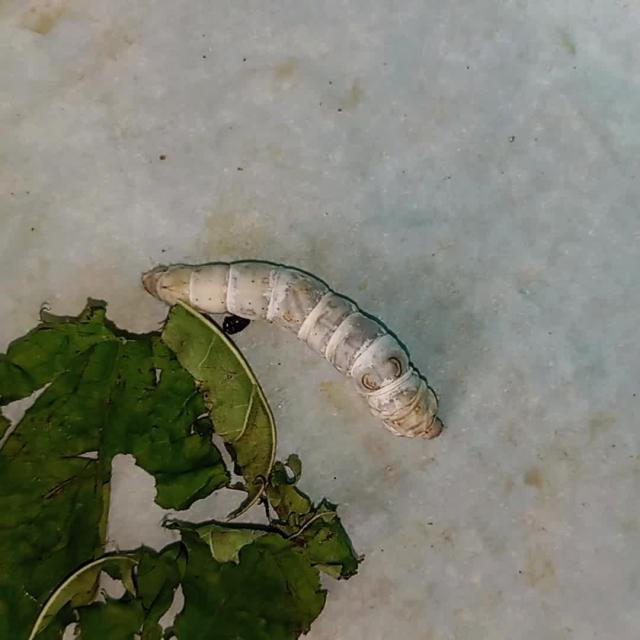Grasserie: (122, 214, 459, 457)
